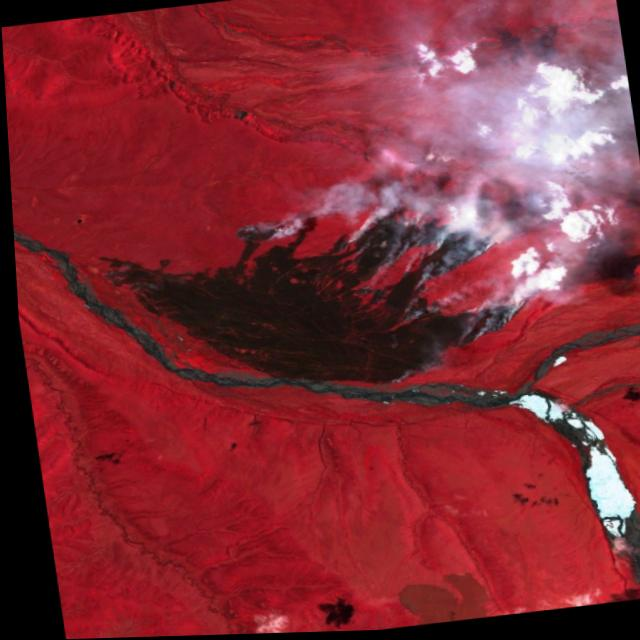fire: (334, 187, 530, 365), (223, 215, 288, 257), (91, 266, 139, 302)
